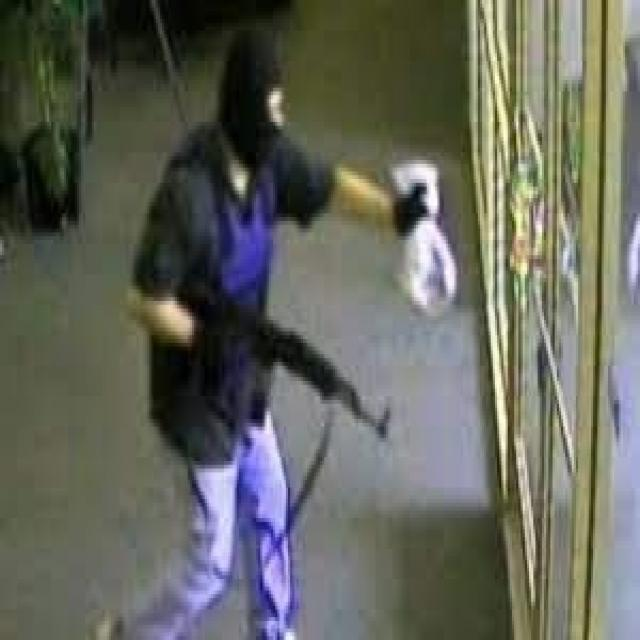gun: (179, 264, 391, 434)
